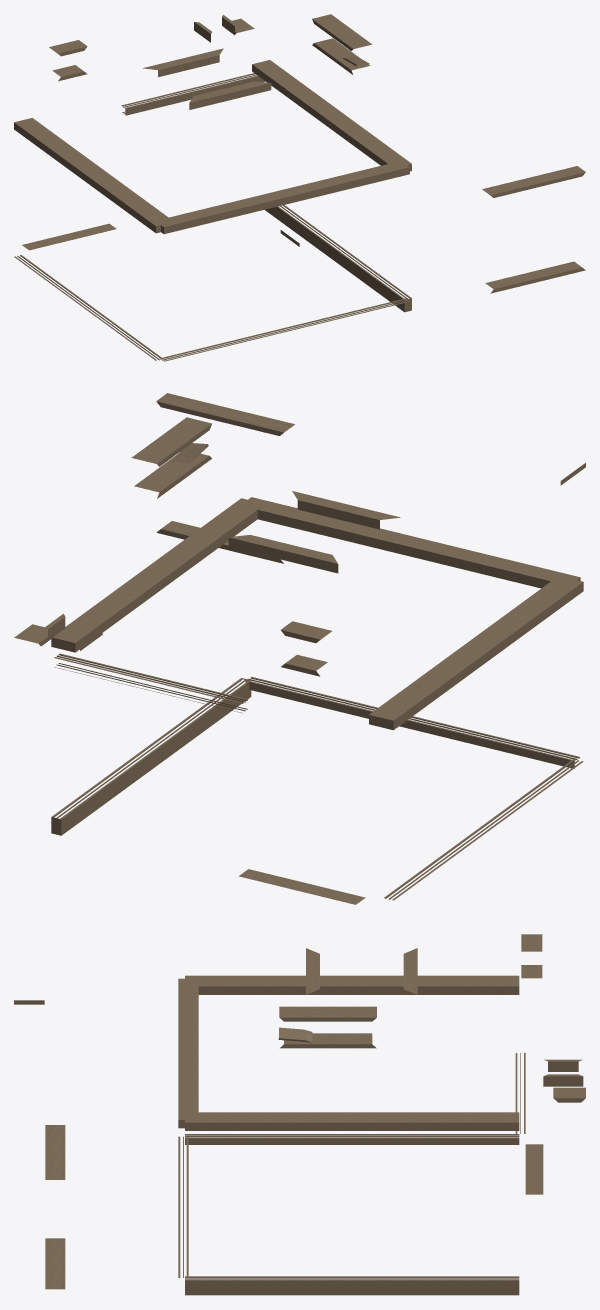
File: kd_stage_135c43_4_14_bounded.glb
The picture shows the model from 3 angles, top to bottom: view 1: azimuth 30°, elevation 25°; view 2: azimuth 150°, elevation 25°; view 3: azimuth 270°, elevation 25°; orthographic projection. The views are drawn at different scales.
Parts seen in each view (by area): view 1: kd_stage_135c43_4_14_bounded; view 2: kd_stage_135c43_4_14_bounded; view 3: kd_stage_135c43_4_14_bounded.
Part boxes in pixels (box(x1,y1,x2,y2)): kd_stage_135c43_4_14_bounded: box(14, 14, 585, 361); kd_stage_135c43_4_14_bounded: box(14, 393, 585, 904); kd_stage_135c43_4_14_bounded: box(14, 934, 585, 1295).
Size of the model in its own units: 5.42 by 3.3 by 6.16.
Materials: 1 (1 with a texture image).
